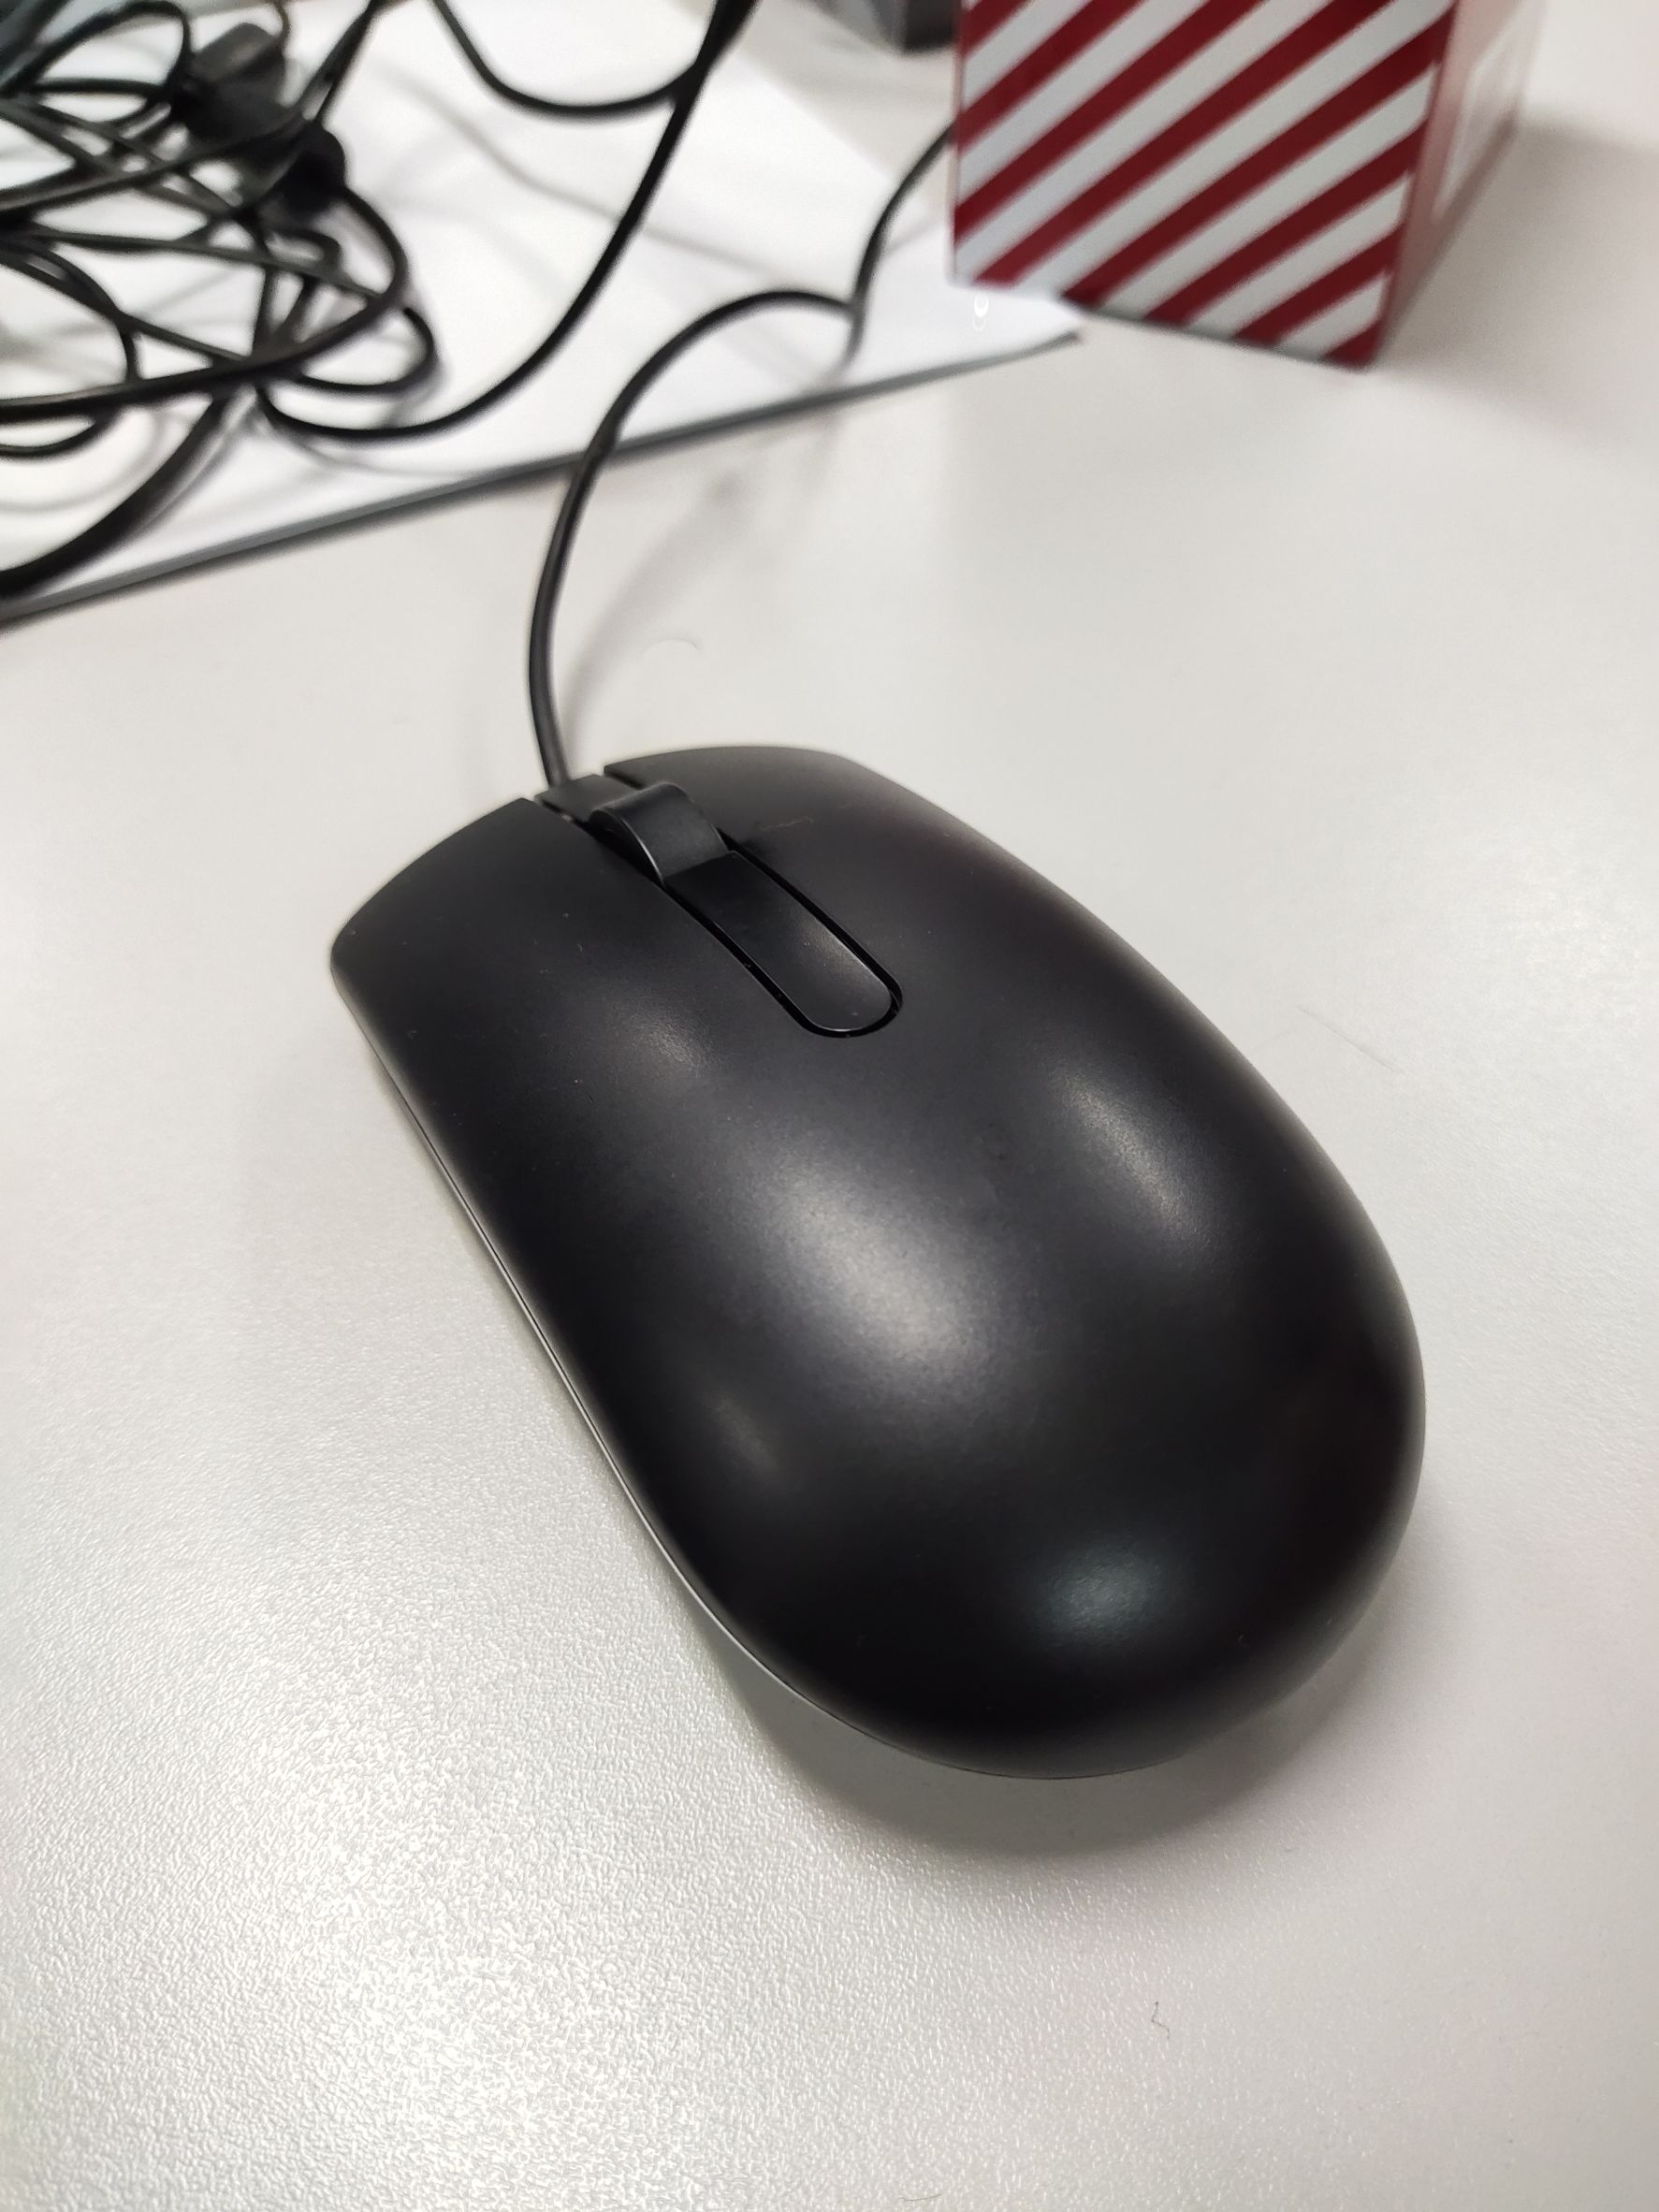mouse: (213, 704, 1511, 1853)
